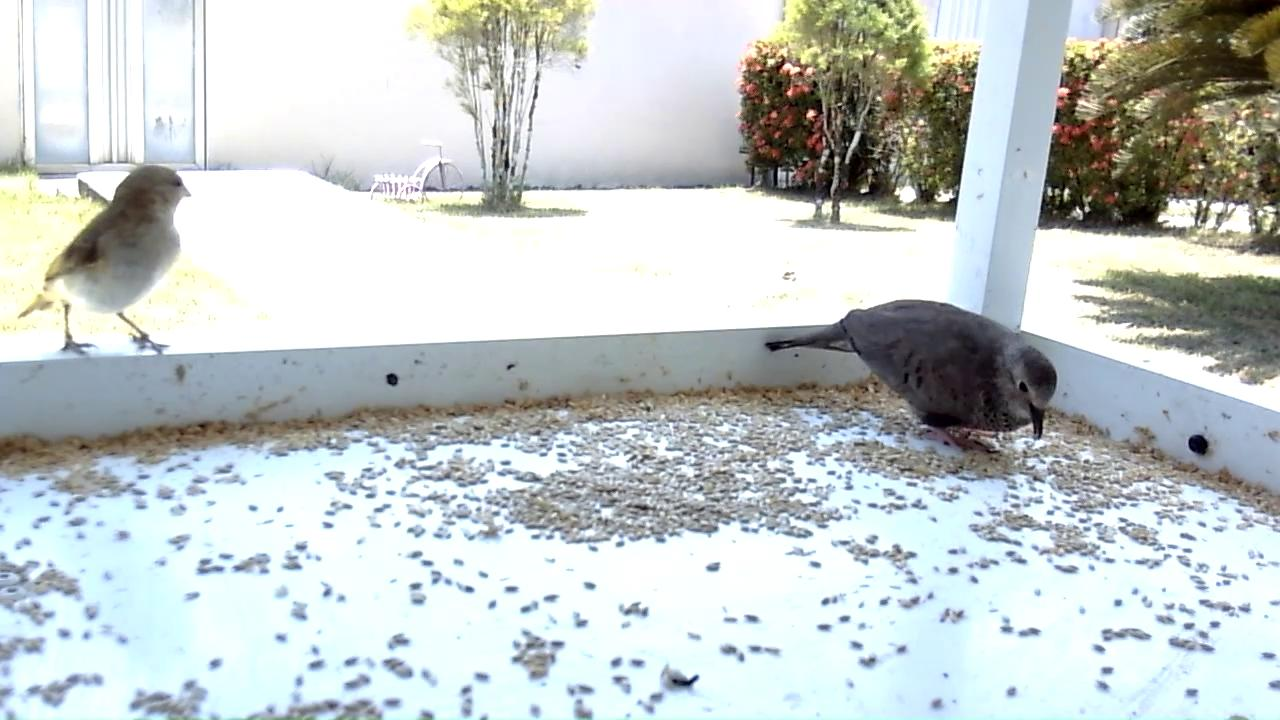canario_do_amazonas: (17, 164, 197, 362)
rolinha: (764, 296, 1060, 458)
